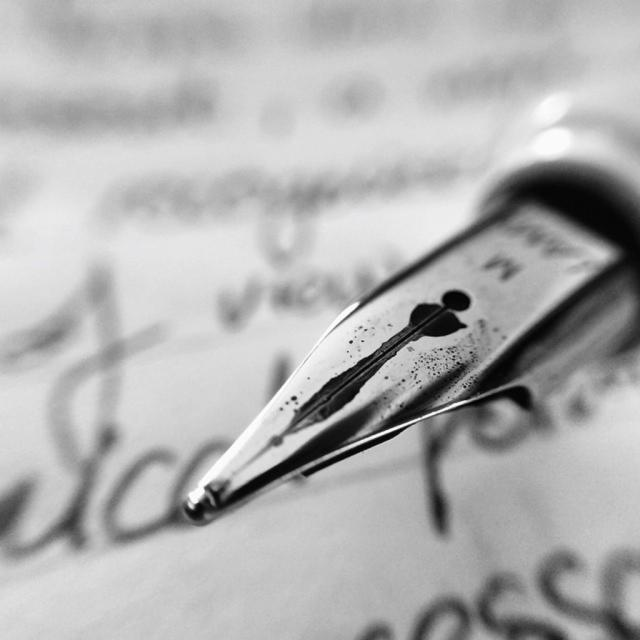pen: (177, 66, 639, 524)
